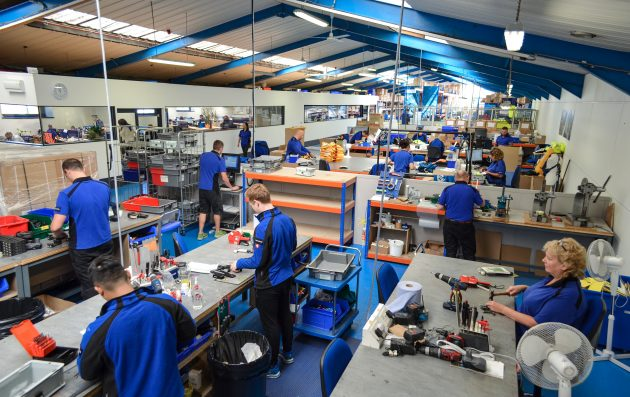person: (77, 255, 199, 397), (229, 182, 298, 383), (48, 156, 116, 305), (484, 237, 589, 324), (194, 139, 242, 243), (438, 170, 486, 257), (281, 127, 315, 163), (478, 147, 509, 186), (386, 139, 418, 175), (117, 116, 138, 148), (237, 121, 253, 159), (495, 126, 516, 147), (348, 127, 370, 145)
